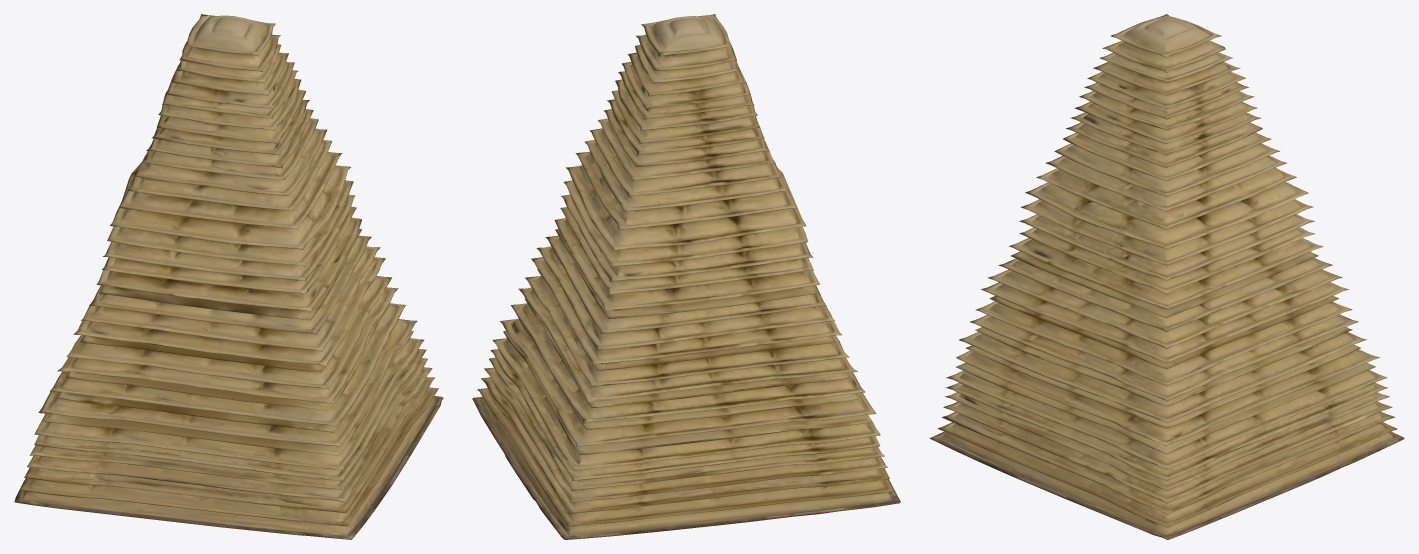
File: rice-stack.glb
3 views of the same model, side by side, from view 1: azimuth 30°, elevation 25°; view 2: azimuth 150°, elevation 25°; view 3: azimuth 270°, elevation 25° (orthographic). The views are drawn at different scales.
Visible parts, largest first — view 1: node_0; view 2: node_0; view 3: node_0.
Boxes of the visible parts, left/top/right/bottom form: node_0: left=14, top=14, right=443, bottom=539; node_0: left=472, top=14, right=900, bottom=539; node_0: left=929, top=14, right=1404, bottom=539.
Size of the model in its own units: 0.8739 by 0.8517 by 0.866.
Materials: 1 (1 with a texture image).
